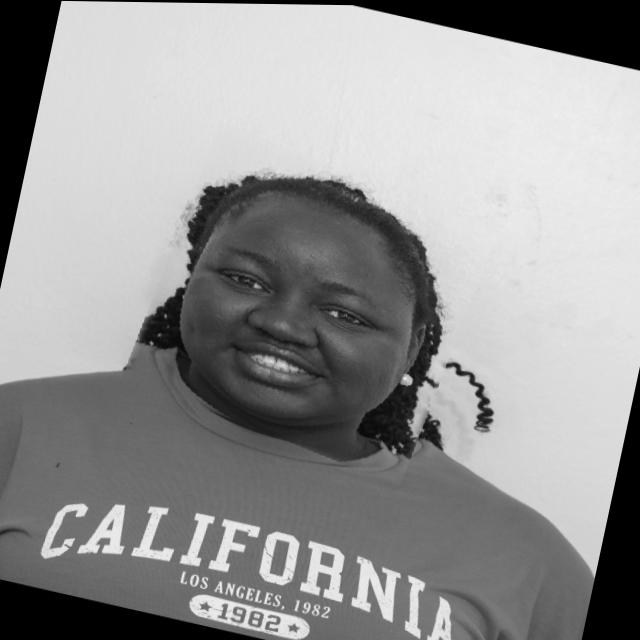happy: (124, 123, 495, 483)
